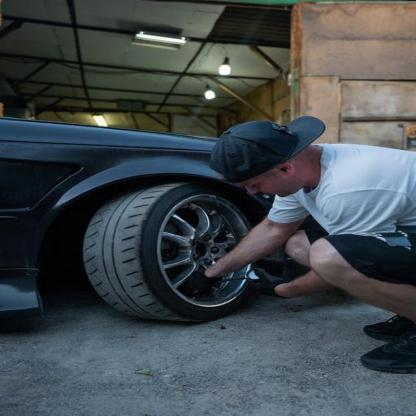Tire: (81, 177, 269, 324)
